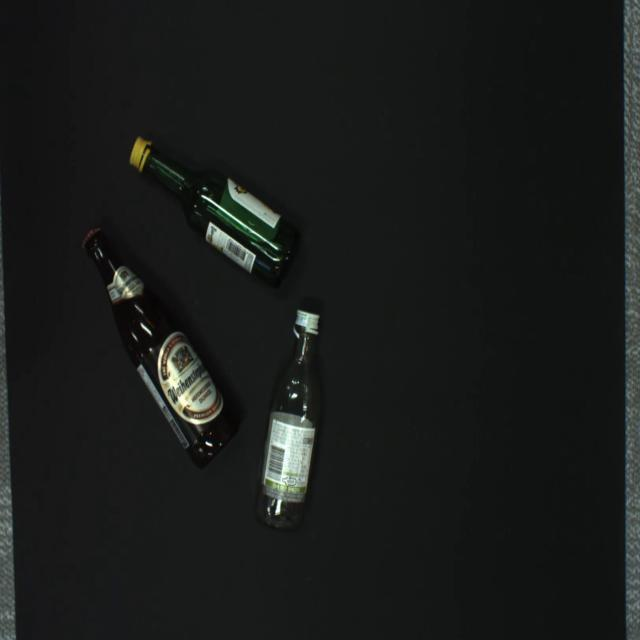beer-bottle: (81, 227, 240, 470)
soju-bottle: (129, 136, 302, 289), (253, 309, 321, 533)
